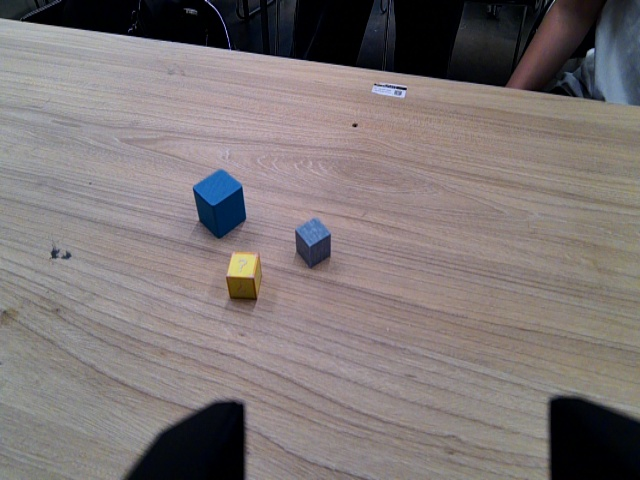lucky: (225, 247, 263, 303)
stone: (288, 217, 334, 270)
